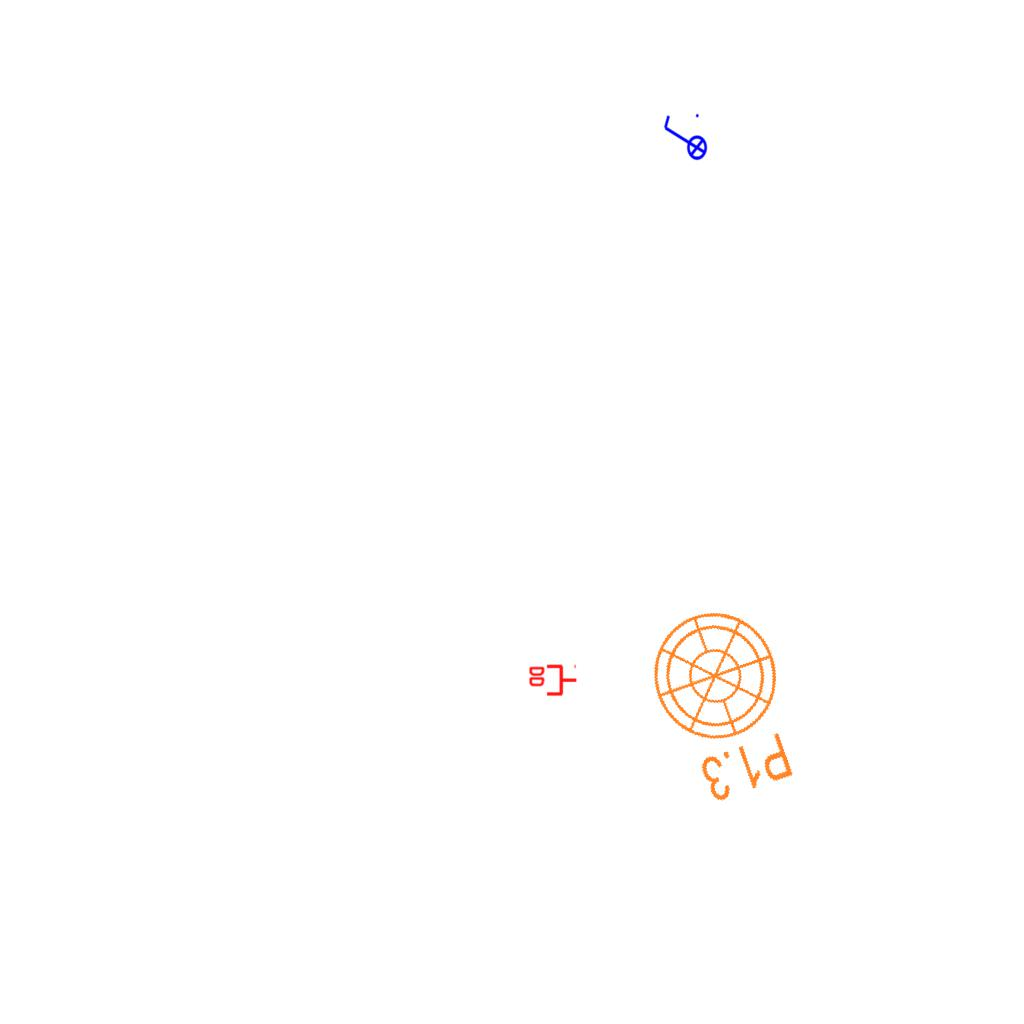Aufbaurundleuchte_LED_Treppenhaus: (622, 591, 821, 832)
Ausschalter_beleuchtet: (660, 111, 708, 167)
Datenanschluss_zweifach: (527, 664, 578, 698)
